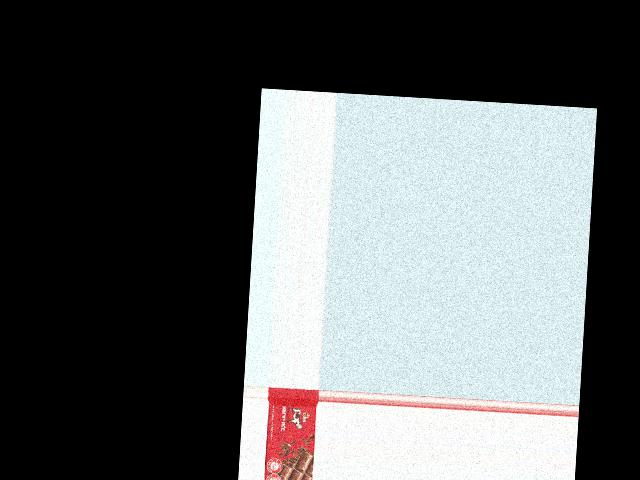chocolate: (260, 388, 318, 480)
